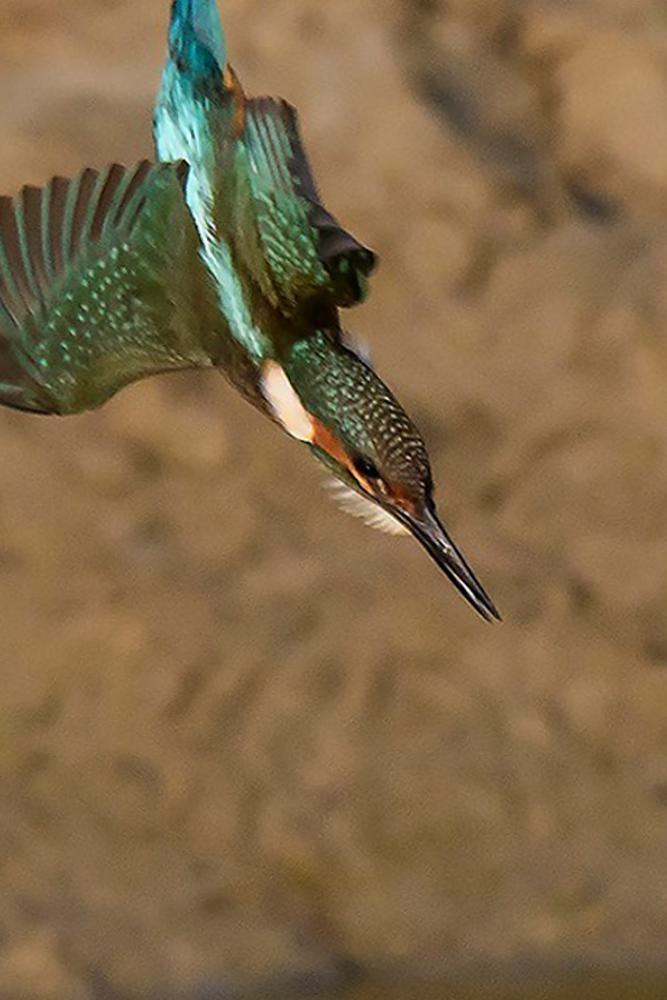kingfisher: (1, 1, 522, 659)
